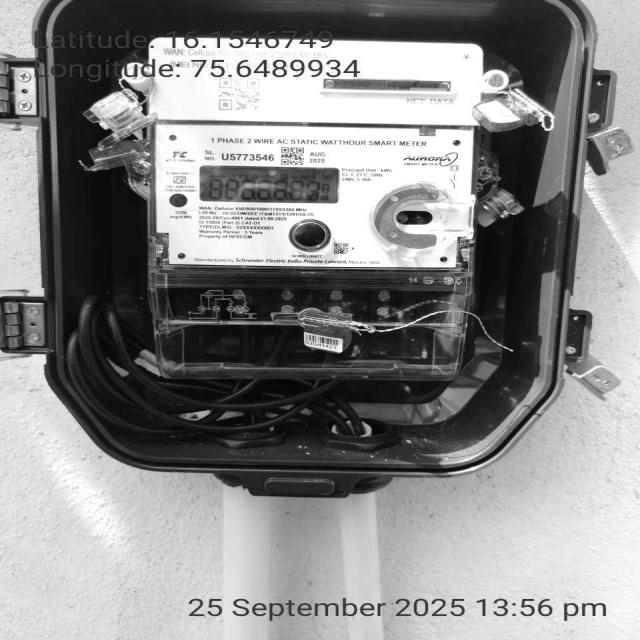meter: (147, 37, 483, 269)
